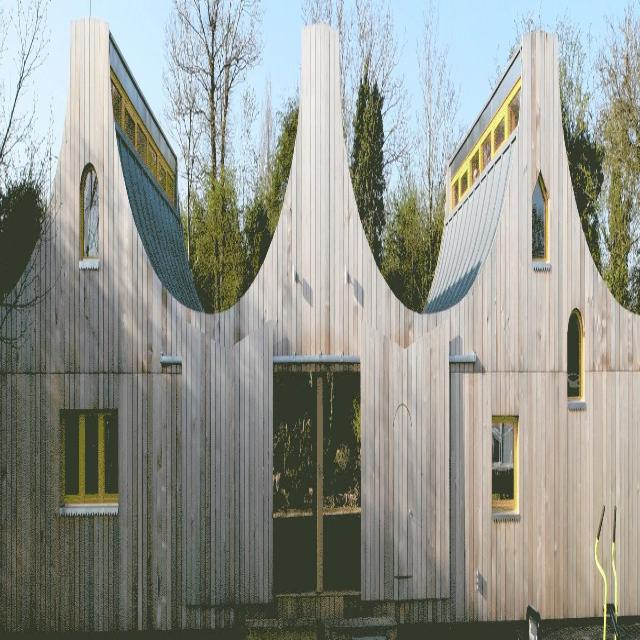door: (272, 363, 363, 612)
window: (59, 415, 118, 505), (491, 418, 516, 517), (80, 168, 97, 264), (568, 314, 583, 398), (534, 178, 547, 257)
